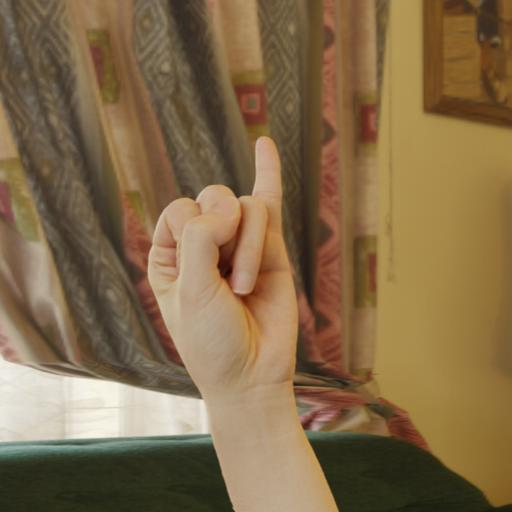I: (144, 128, 312, 411)
